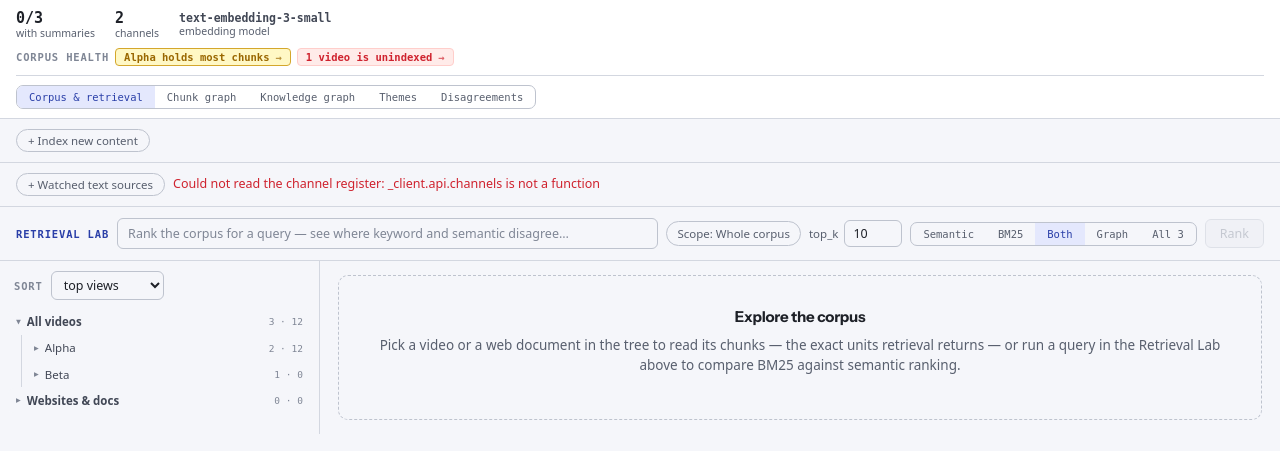
PipelineView › narrows the tree to the videos an insight names
The image size is (1280, 451).
What coordinates should you click on to do the following:
click the button "1 video is unindexed →"
I would click on:
 (375, 57)
Its box is [297,48,454,66].
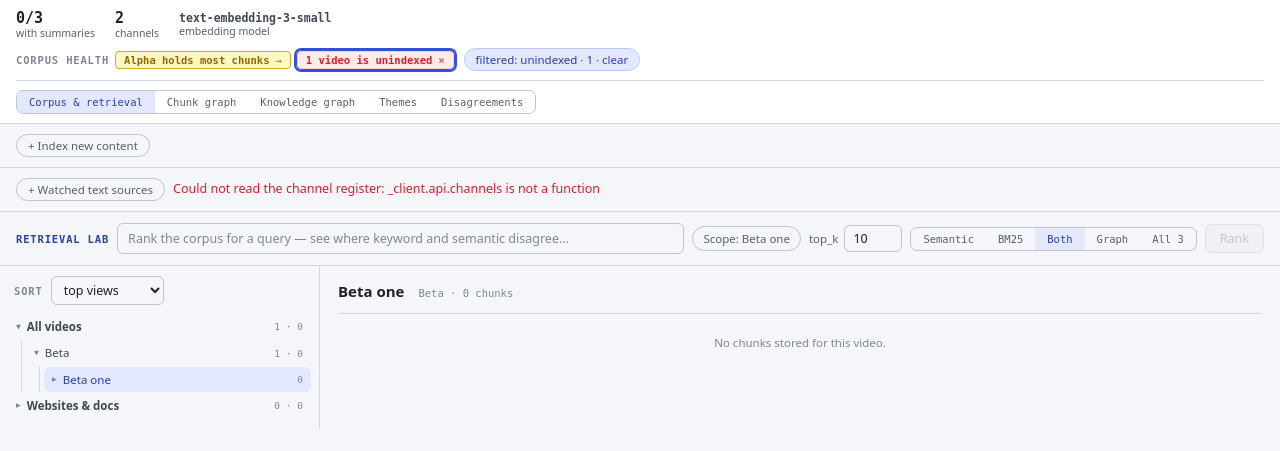
Expected: the text "Beta one" below "All videos" is shown, [63,372,111,387]
Expected: the button "filtered: unindexed · 1 · clear" is shown, [464,48,640,71]
